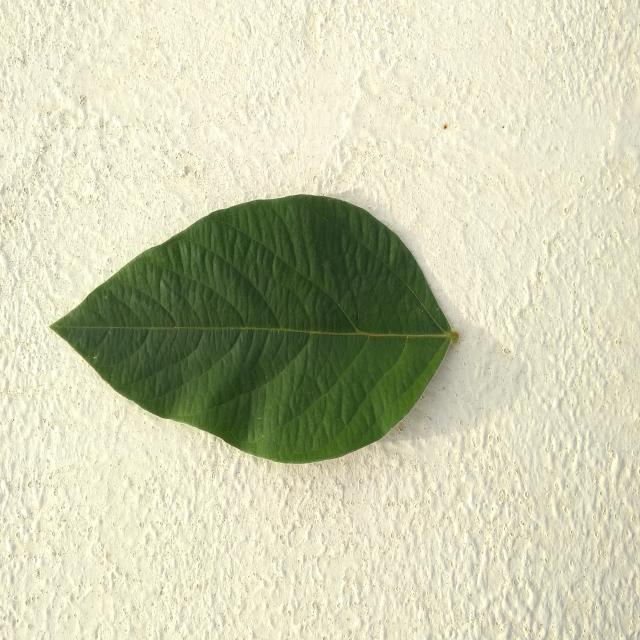pea: (52, 196, 459, 462)
